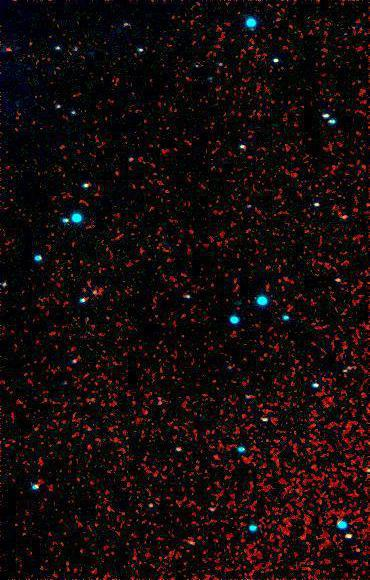star: (0, 35, 23, 65)
